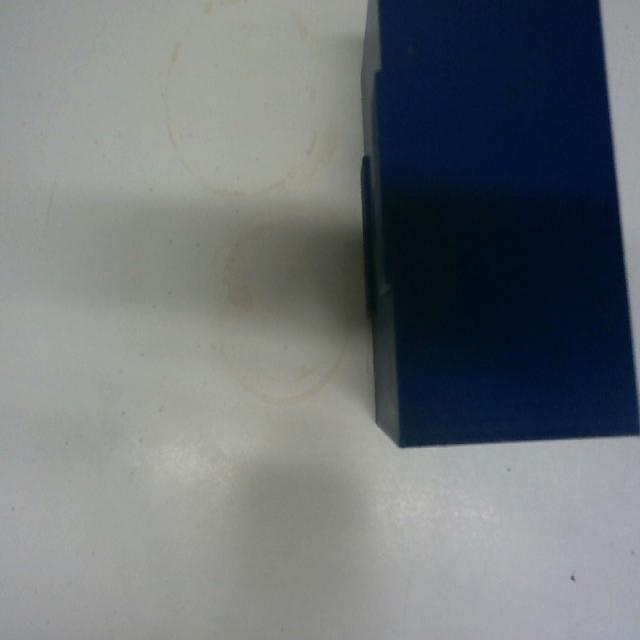Blue Cuboid: (357, 0, 639, 449)
